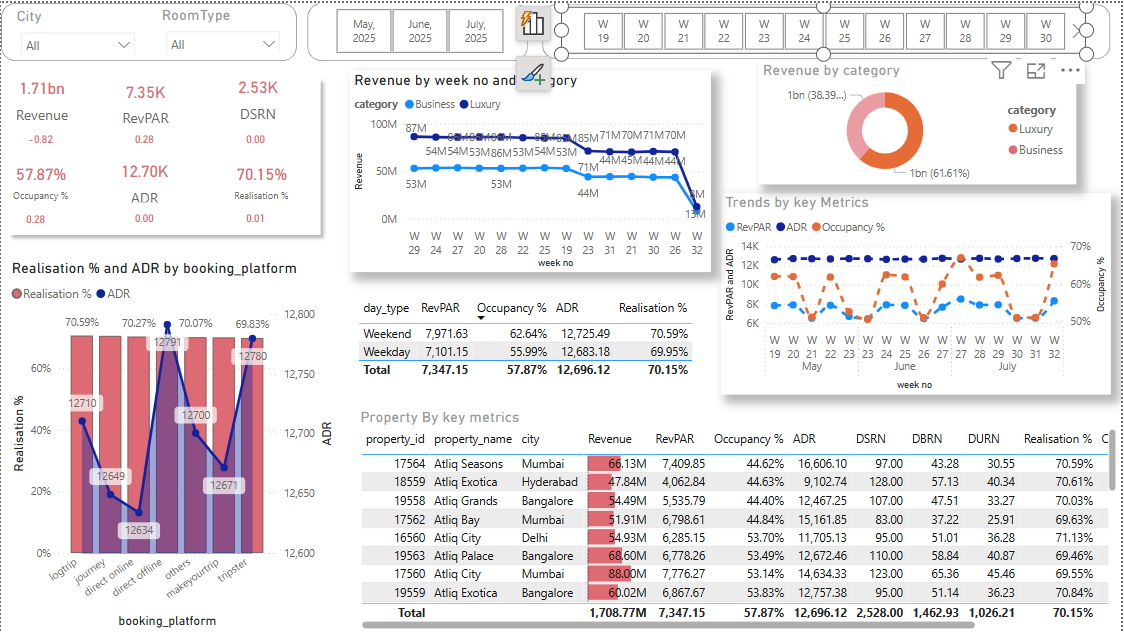

The page's visual inventory and layout, read from the dashboard file:
{"tool":"powerbi","page":{"name":"Page 1","canvas":[1280,720],"ordinal":0},"visuals":[{"type":"shape","box":[0,76.5,374,197],"z":0},{"type":"shape","box":[0,0,338.1,66.4],"z":1000},{"type":"shape","box":[618.5,1.2,649.2,62.7],"z":2000},{"type":"shape","box":[350.4,0,252.1,66.4],"z":3000},{"type":"tableEx","title":"Property By key metrics","fields":{"Values":["dim_hotels.property_id","dim_hotels.property_name","dim_hotels.city","Key_Measures.Revenue","Key_Measures.RevPAR","Key_Measures.Occupancy %","Key_Measures.ADR","Key_Measures.DSRN","Key_Measures.DBRN","Key_Measures.DURN","Key_Measures.Realisation %","Key_Measures.Cancellation %"]},"box":[406.2,462.5,873.8,257.5],"z":4000},{"type":"slicer","title":"City","fields":{"Values":["dim_hotels.city"]},"box":[13.5,3.7,150,55.3],"z":5000},{"type":"slicer","title":"RoomType","fields":{"Values":["dim_rooms.room_class"]},"box":[179,3,150,55.3],"z":6000},{"type":"slicer","fields":{"Values":["dim_date.mmm yy"]},"box":[362.7,0,229.9,63.9],"z":7000},{"type":"slicer","title":"Filer By RoomType","fields":{"Values":["dim_date.week no"]},"box":[640.6,3.7,600,55],"z":8000},{"type":"card","fields":{"Values":["Key_Measures.Revenue"]},"box":[7.3,79.6,79.6,59],"z":9000},{"type":"card","fields":{"Values":["Key_Measures.RevPAR"]},"box":[125.7,78.6,79,69],"z":10000},{"type":"card","fields":{"Values":["Key_Measures.Occupancy %"]},"box":[5.2,175,79.6,58.7],"z":11000},{"type":"card","fields":{"Values":["Key_Measures.Revenue WoW change %"]},"box":[12.6,143.5,65,30.4],"z":12000},{"type":"card","fields":{"Values":["Key_Measures.DSRN"]},"box":[254.6,78.6,79,59],"z":13000},{"type":"card","fields":{"Values":["Key_Measures.ADR"]},"box":[124.7,175,79.6,58.7],"z":14000},{"type":"card","fields":{"Values":["Key_Measures.Realisation %"]},"box":[258.8,175,78.6,58.7],"z":15000},{"type":"card","fields":{"Values":["Key_Measures.Revpar WoW change %"]},"box":[131,143.5,65,30.4],"z":16000},{"type":"card","fields":{"Values":["Key_Measures.DSRN WoW change %"]},"box":[258.8,143.5,65,30.4],"z":17000},{"type":"card","fields":{"Values":["Key_Measures.Occupancy WoW change %"]},"box":[7.3,233.6,65,30],"z":18000},{"type":"card","fields":{"Values":["Key_Measures.ADR WoW change %"]},"box":[131,232.6,65,30.4],"z":19000},{"type":"card","fields":{"Values":["Key_Measures.Realisation WoW change %"]},"box":[258.8,232.6,65,30.4],"z":20000},{"type":"lineChart","title":"Trends by key Metrics","fields":{"Y":["Key_Measures.RevPAR","Key_Measures.ADR"],"Category":["dim_date.mmm yy.Variation.Date Hierarchy.Month","dim_date.week no"],"Y2":["Key_Measures.Occupancy %"]},"box":[822.4,216.9,445.2,230.5],"z":21000},{"type":"lineStackedColumnComboChart","fields":{"Category":["fact_bookings.booking_platform"],"Y":["Key_Measures.Realisation %"],"Y2":["Key_Measures.ADR"]},"box":[7.3,293.3,378.2,426.4],"z":22000},{"type":"tableEx","fields":{"Values":["dim_date.day_type","Key_Measures.RevPAR","Key_Measures.Occupancy %","Key_Measures.ADR","Key_Measures.Realisation %"]},"box":[402.5,332.5,398.8,113.8],"z":23000},{"type":"lineChart","fields":{"Y":["Key_Measures.Revenue"],"Category":["dim_date.week no"],"Series":["dim_hotels.category"]},"box":[399.1,76.5,412.8,230.5],"z":24000},{"type":"donutChart","fields":{"Category":["dim_hotels.category"],"Y":["Key_Measures.Revenue"]},"box":[865.3,66,363.5,141.4],"z":25000}]}

Visuals, with their boxes in screenshot pixels (x1, y1, x2, y2), scaled from the page's 1280x720 canvas onto the 1124x632 screenshot:
shape: [0, 67, 328, 240]
shape: [0, 0, 297, 58]
shape: [543, 1, 1113, 56]
shape: [308, 0, 529, 58]
"Property By key metrics" tableEx: [357, 406, 1123, 631]
"City" slicer: [12, 3, 144, 52]
"RoomType" slicer: [157, 3, 289, 51]
slicer - dim_date.mmm yy: [318, 0, 520, 56]
"Filer By RoomType" slicer: [563, 3, 1089, 52]
card - Key_Measures.Revenue: [6, 70, 76, 122]
card - Key_Measures.RevPAR: [110, 69, 180, 130]
card - Key_Measures.Occupancy %: [5, 154, 74, 205]
card - Key_Measures.Revenue WoW change %: [11, 126, 68, 153]
card - Key_Measures.DSRN: [224, 69, 293, 121]
card - Key_Measures.ADR: [110, 154, 179, 205]
card - Key_Measures.Realisation %: [227, 154, 296, 205]
card - Key_Measures.Revpar WoW change %: [115, 126, 172, 153]
card - Key_Measures.DSRN WoW change %: [227, 126, 284, 153]
card - Key_Measures.Occupancy WoW change %: [6, 205, 63, 231]
card - Key_Measures.ADR WoW change %: [115, 204, 172, 231]
card - Key_Measures.Realisation WoW change %: [227, 204, 284, 231]
"Trends by key Metrics" lineChart: [722, 190, 1113, 393]
lineStackedColumnComboChart - fact_bookings.booking_platform x Key_Measures.Realisation %: [6, 257, 339, 631]
tableEx - dim_date.day_type x Key_Measures.RevPAR: [353, 292, 704, 392]
lineChart - Key_Measures.Revenue x dim_date.week no: [350, 67, 713, 269]
donutChart - dim_hotels.category x Key_Measures.Revenue: [760, 58, 1079, 182]
